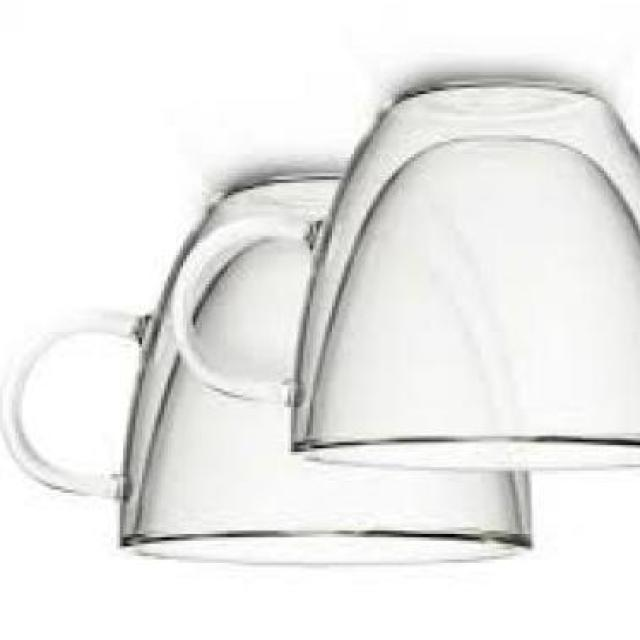kaca: (4, 180, 538, 568), (171, 82, 640, 467)
